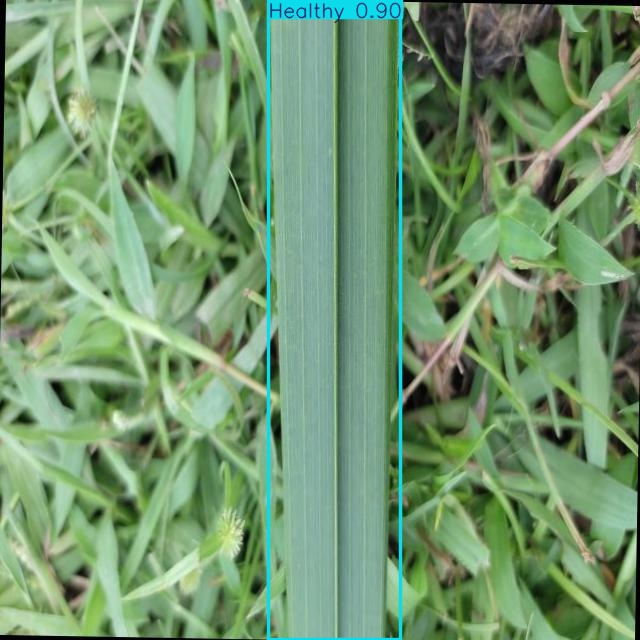Healthy: (269, 1, 401, 640)
